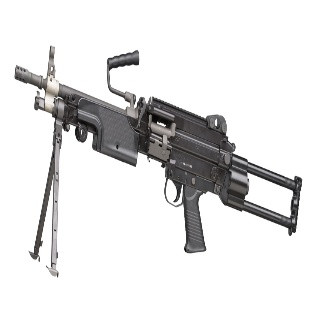rifle: (13, 43, 304, 253)
